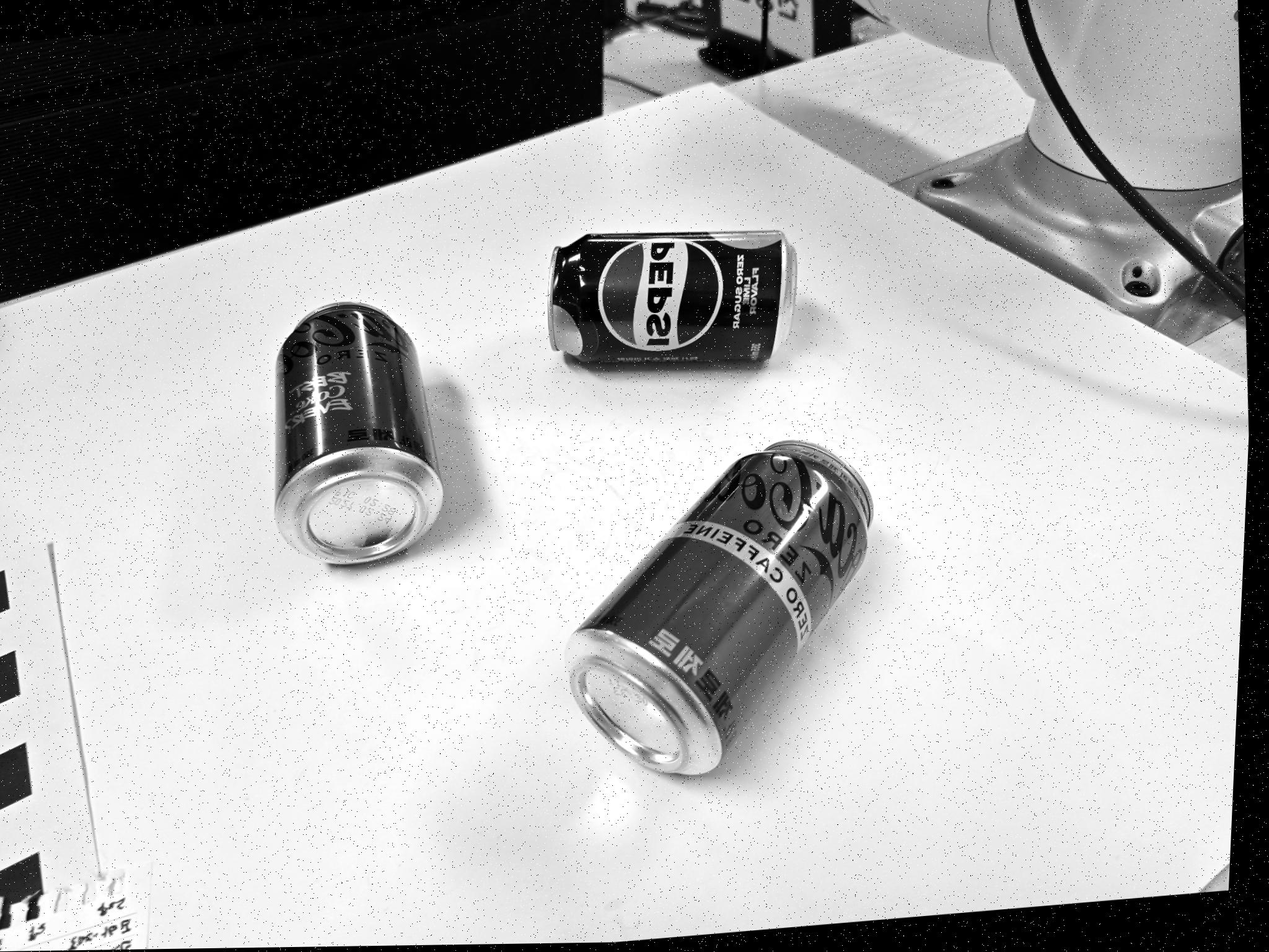can_coke_decaf: (563, 436, 879, 781)
can_coke_zero: (271, 300, 443, 572)
can_pepsi_zero: (549, 226, 803, 368)
